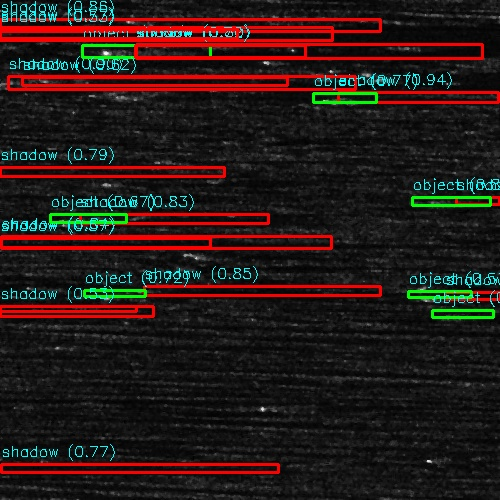rock: (246, 400, 361, 411), (68, 285, 161, 298), (95, 47, 220, 56), (0, 78, 73, 89), (66, 212, 129, 223), (89, 92, 172, 99), (321, 96, 374, 103), (104, 177, 157, 184)
shadow: (0, 20, 333, 37), (1, 78, 344, 89), (115, 285, 385, 298), (0, 461, 265, 474), (0, 238, 369, 247), (98, 212, 366, 223), (158, 47, 423, 56), (0, 169, 253, 178), (304, 400, 491, 411), (0, 466, 127, 477), (348, 96, 441, 103), (131, 92, 220, 99), (131, 177, 220, 184), (0, 161, 69, 170), (0, 307, 124, 312)
